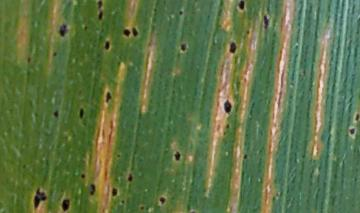tarspot: (33, 186, 48, 209), (57, 21, 68, 40), (222, 98, 233, 116), (104, 88, 113, 107), (101, 38, 112, 53), (61, 197, 71, 213), (227, 40, 238, 54), (262, 14, 270, 31), (88, 182, 97, 197), (346, 126, 357, 137), (236, 1, 246, 13), (157, 194, 167, 206), (122, 27, 132, 39), (173, 149, 181, 162), (77, 107, 85, 120), (95, 1, 105, 11), (126, 171, 134, 182), (131, 26, 139, 37), (111, 186, 118, 198), (97, 10, 104, 22), (179, 43, 187, 53), (25, 55, 32, 66), (51, 50, 59, 59), (354, 112, 360, 123), (224, 122, 232, 130), (52, 109, 59, 118), (81, 23, 88, 32), (242, 152, 249, 160), (138, 204, 145, 212), (80, 172, 86, 180), (177, 9, 183, 16), (245, 29, 249, 35)
